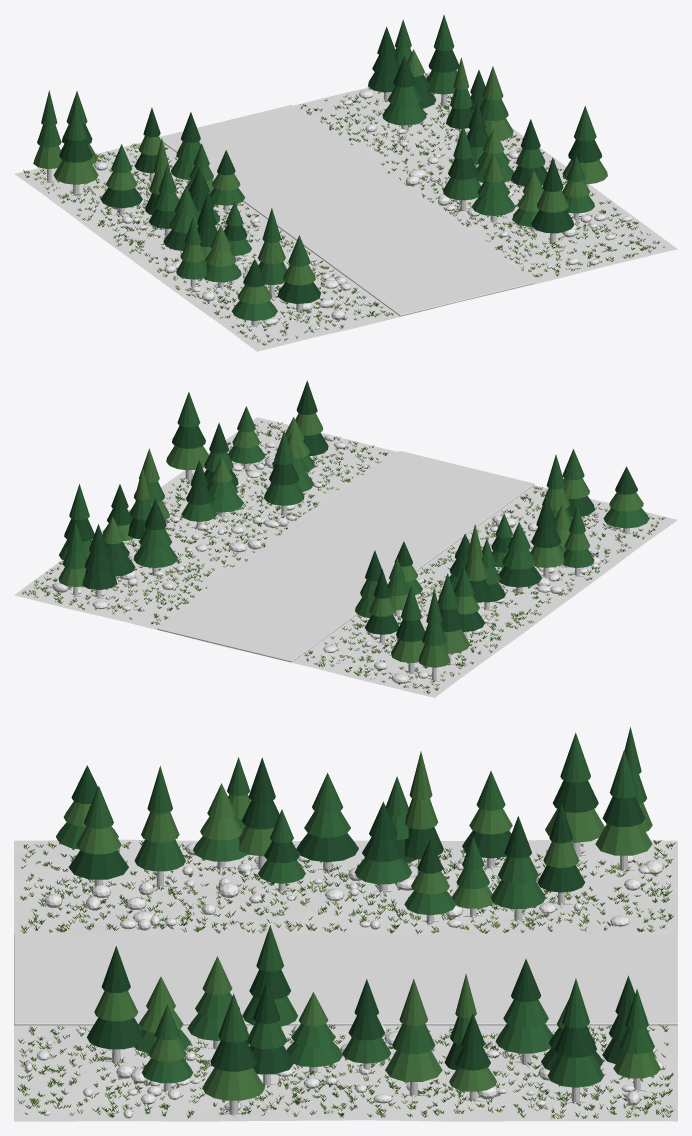
The model's file is Ground .fbx.
The picture shows the model from 3 angles, top to bottom: view 1: azimuth 30°, elevation 25°; view 2: azimuth 150°, elevation 25°; view 3: azimuth 270°, elevation 25°; orthographic projection. The views are drawn at different scales.
Visible parts, largest first — view 1: ForestGround_Tile, Central_Running_Road, Forest_Grass_Combined, Pine_Canopy.048, Pine_Canopy.057, Pine_Canopy.093, Pine_Canopy, Pine_Canopy.003, Pine_Canopy.072, Pine_Canopy.066, Pine_Canopy.039, Pine_Canopy.049 (+13 smaller); view 2: ForestGround_Tile, Central_Running_Road, Forest_Grass_Combined, Pine_Canopy.069, Pine_Canopy.093, Pine_Canopy.072, Pine_Canopy.021, Pine_Canopy.003, Pine_Canopy.070, Pine_Canopy.051, Pine_Canopy.018, Pine_Canopy.054 (+13 smaller); view 3: ForestGround_Tile, Central_Running_Road, Forest_Grass_Combined, Pine_Canopy.069, Pine_Canopy.099, Pine_Canopy.057, Pine_Canopy.051, Pine_Canopy.084, Pine_Canopy.021, Pine_Canopy.093, Pine_Canopy, Pine_Canopy.006 (+68 smaller).
Boxes of the visible parts, box(x1,y1,x2,y2) form: ForestGround_Tile: box(14, 72, 677, 351); Central_Running_Road: box(159, 105, 534, 316); Forest_Grass_Combined: box(23, 73, 664, 345); Pine_Canopy.048: box(53, 160, 98, 184); Pine_Canopy.057: box(531, 210, 574, 233); Pine_Canopy.093: box(382, 103, 426, 125); Pine_Canopy: box(277, 282, 320, 303); Pine_Canopy.003: box(231, 300, 277, 320); Pine_Canopy.072: box(443, 177, 480, 200); Pine_Canopy.066: box(472, 196, 515, 215); Pine_Canopy.039: box(100, 187, 142, 208); Pine_Canopy.049: box(59, 139, 92, 162); ForestGround_Tile: box(14, 417, 677, 697); Central_Running_Road: box(157, 451, 534, 662); Forest_Grass_Combined: box(21, 421, 665, 694); Pine_Canopy.069: box(166, 446, 208, 470); Pine_Canopy.093: box(133, 546, 177, 567); Pine_Canopy.072: box(264, 482, 304, 505); Pine_Canopy.021: box(498, 566, 541, 587); Pine_Canopy.003: box(603, 508, 649, 528); Pine_Canopy.070: box(172, 425, 205, 448); Pine_Canopy.051: box(391, 639, 424, 662); Pine_Canopy.018: box(530, 545, 564, 567); Pine_Canopy.054: box(418, 644, 450, 667); ForestGround_Tile: box(14, 839, 677, 1121); Central_Running_Road: box(14, 934, 677, 1025); Forest_Grass_Combined: box(17, 840, 675, 1118); Pine_Canopy.069: box(202, 1067, 264, 1100); Pine_Canopy.099: box(547, 1054, 604, 1087); Pine_Canopy.057: box(87, 1017, 142, 1049); Pine_Canopy.051: box(595, 824, 652, 855); Pine_Canopy.084: box(385, 1050, 442, 1081); Pine_Canopy.021: box(296, 833, 358, 862); Pine_Canopy.093: box(496, 1023, 553, 1053); Pine_Canopy: box(68, 850, 128, 879); Pine_Canopy.006: box(134, 839, 185, 871).
Bounding box in the file's own units: 5084 × 1087 × 5000.
